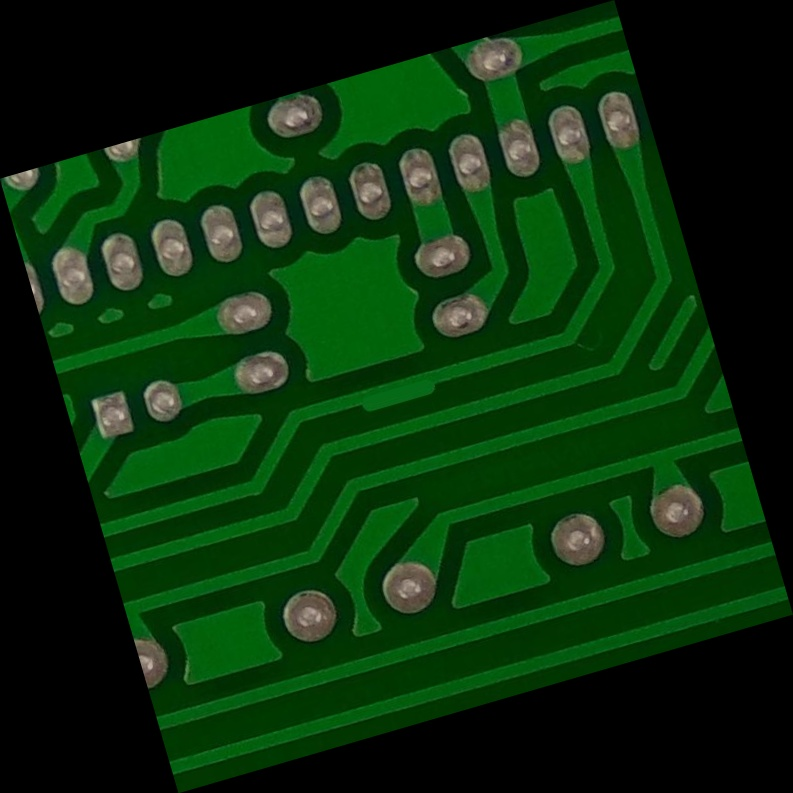spur: (337, 357, 458, 437)
